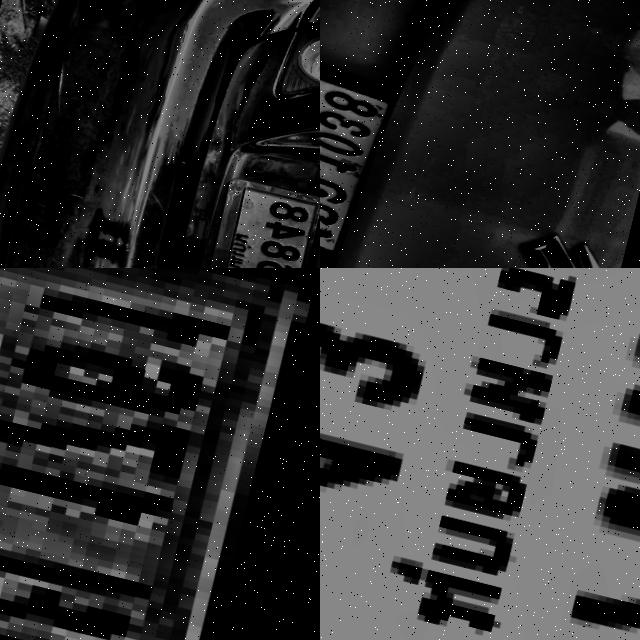license-plate: (0, 268, 320, 640), (320, 268, 640, 640), (320, 45, 408, 268), (190, 174, 320, 268)
